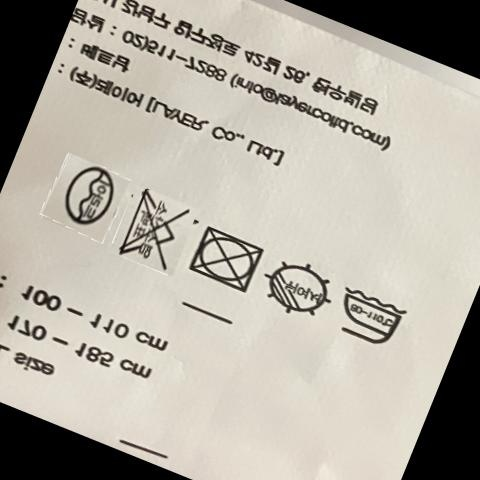DN_bleach: (123, 187, 183, 276)
DN_tumble_dry: (189, 223, 261, 297)
dry_clean: (55, 160, 116, 234)
dry_flat_in_shade: (266, 257, 329, 323)
tumble_dry_low: (333, 279, 407, 352)
